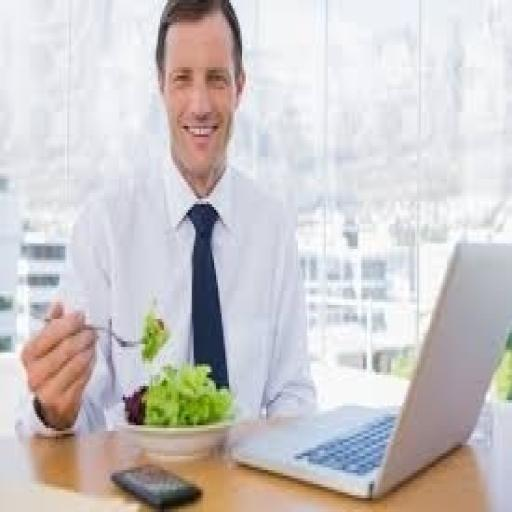eating: (16, 0, 320, 439)
